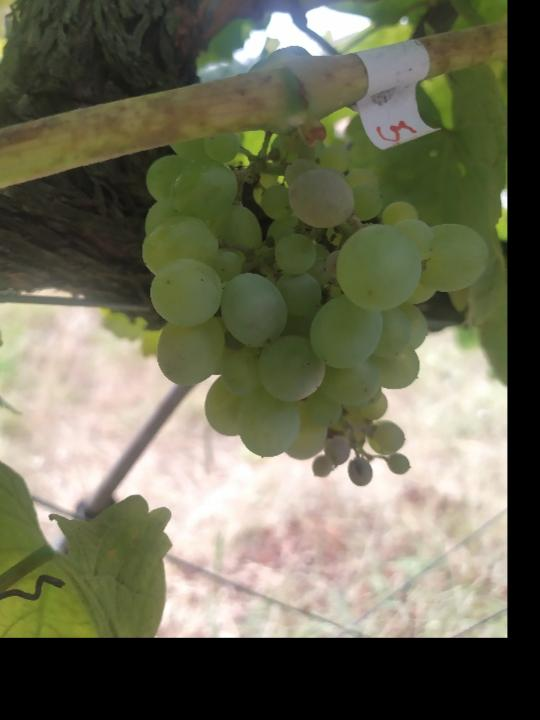grape: (137, 116, 492, 489)
